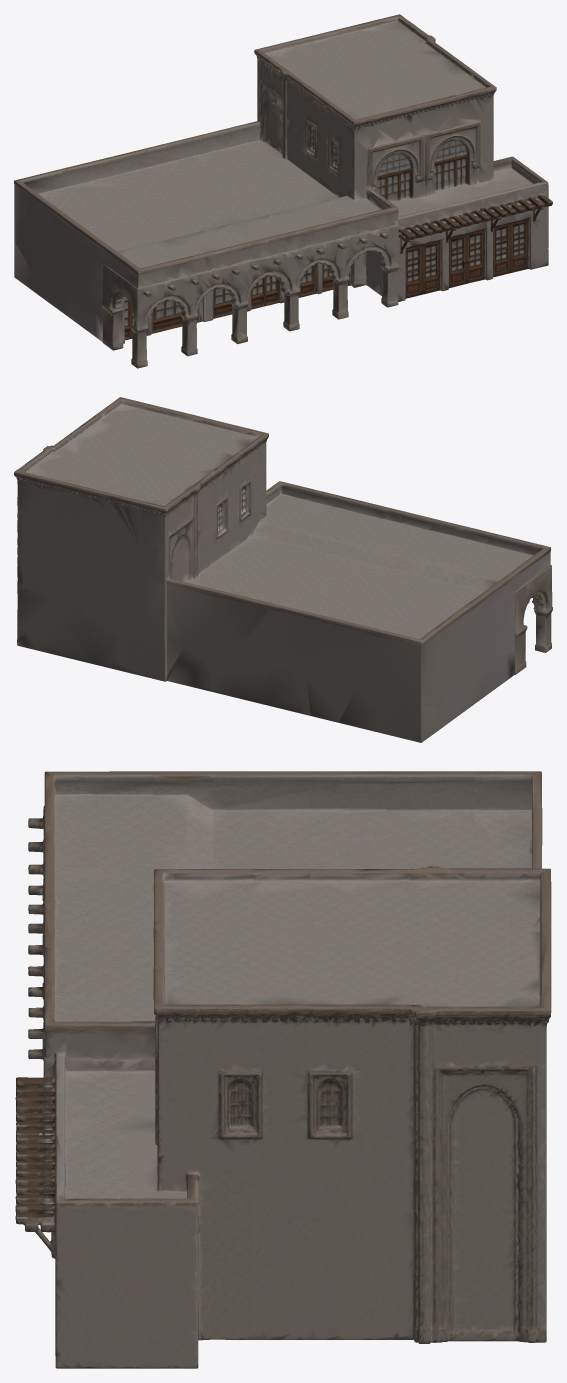
The model's file is arcade_lod1.glb.
3 views of the same model, one above another, from view 1: azimuth 30°, elevation 25°; view 2: azimuth 150°, elevation 25°; view 3: azimuth 270°, elevation 25° (orthographic). The views are drawn at different scales.
Parts seen in each view (by area): view 1: mesh_node; view 2: mesh_node; view 3: mesh_node.
Boxes of the visible parts, box(x1,y1,x2,y2) form: mesh_node: box(14, 14, 552, 368); mesh_node: box(14, 397, 552, 742); mesh_node: box(15, 771, 551, 1368).
Size of the model in its own units: 1.9 by 0.733 by 1.06.
Materials: 1 (1 with a texture image).
